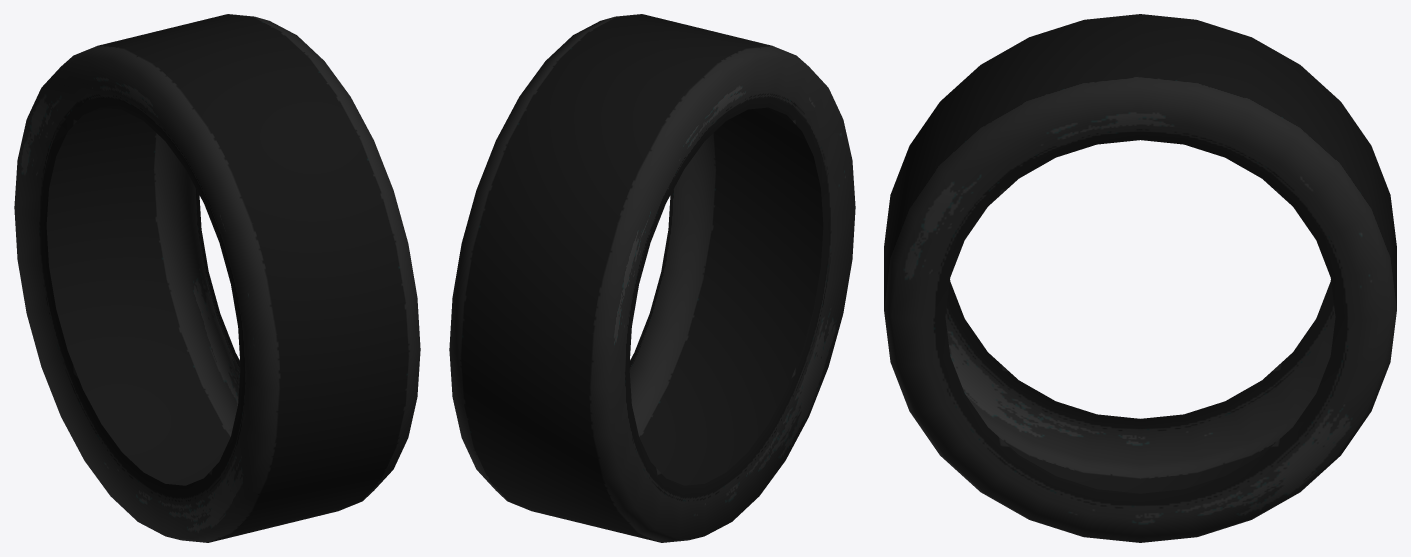
File: tire.glb
3 renders of one model, left to right at view 1: azimuth 30°, elevation 25°; view 2: azimuth 150°, elevation 25°; view 3: azimuth 270°, elevation 25°, orthographic.
Visible parts, largest first — view 1: LOD_A_TYRE_mm_tyre_gallardo:Vehicle_Exterior_mm_tyre1_0; view 2: LOD_A_TYRE_mm_tyre_gallardo:Vehicle_Exterior_mm_tyre1_0; view 3: LOD_A_TYRE_mm_tyre_gallardo:Vehicle_Exterior_mm_tyre1_0.
Boxes of the visible parts, x1=… form: LOD_A_TYRE_mm_tyre_gallardo:Vehicle_Exterior_mm_tyre1_0: x1=14, y1=14, x2=420, y2=542; LOD_A_TYRE_mm_tyre_gallardo:Vehicle_Exterior_mm_tyre1_0: x1=449, y1=14, x2=855, y2=542; LOD_A_TYRE_mm_tyre_gallardo:Vehicle_Exterior_mm_tyre1_0: x1=884, y1=14, x2=1396, y2=542.
Size of the model in its own units: 0.2214 by 0.5966 by 0.5966.
1 material, 1 textured.
